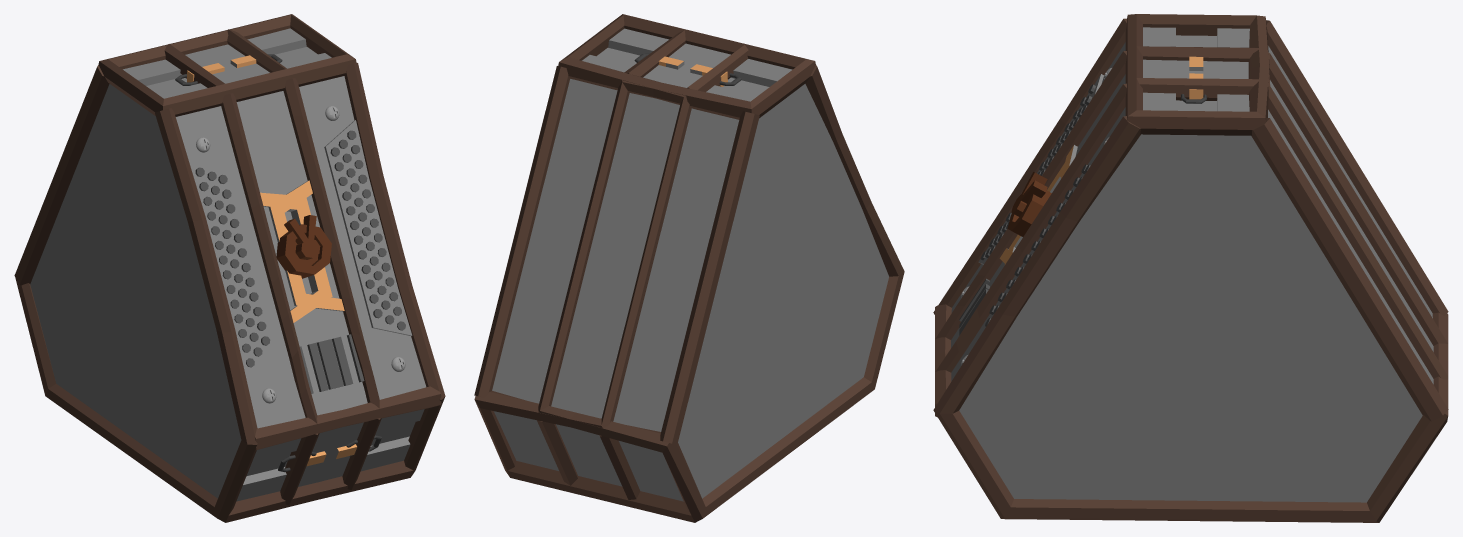
3 views of the same model, side by side, from view 1: azimuth 30°, elevation 25°; view 2: azimuth 150°, elevation 25°; view 3: azimuth 270°, elevation 25° (orthographic). The views are drawn at different scales.
Parts seen in each view (by area): view 1: 柱体.001; view 2: 柱体.001; view 3: 柱体.001.
Boxes of the visible parts, x1=… form: 柱体.001: x1=14, y1=14, x2=445, y2=522; 柱体.001: x1=474, y1=14, x2=904, y2=522; 柱体.001: x1=933, y1=14, x2=1448, y2=522.
Bounding box in the file's own units: 183 × 340 × 382.
